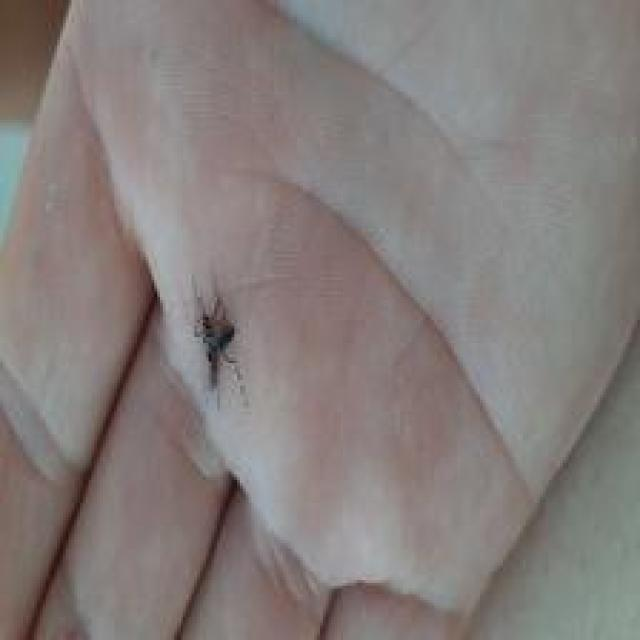Aedes albopictus: (193, 294, 238, 389)
